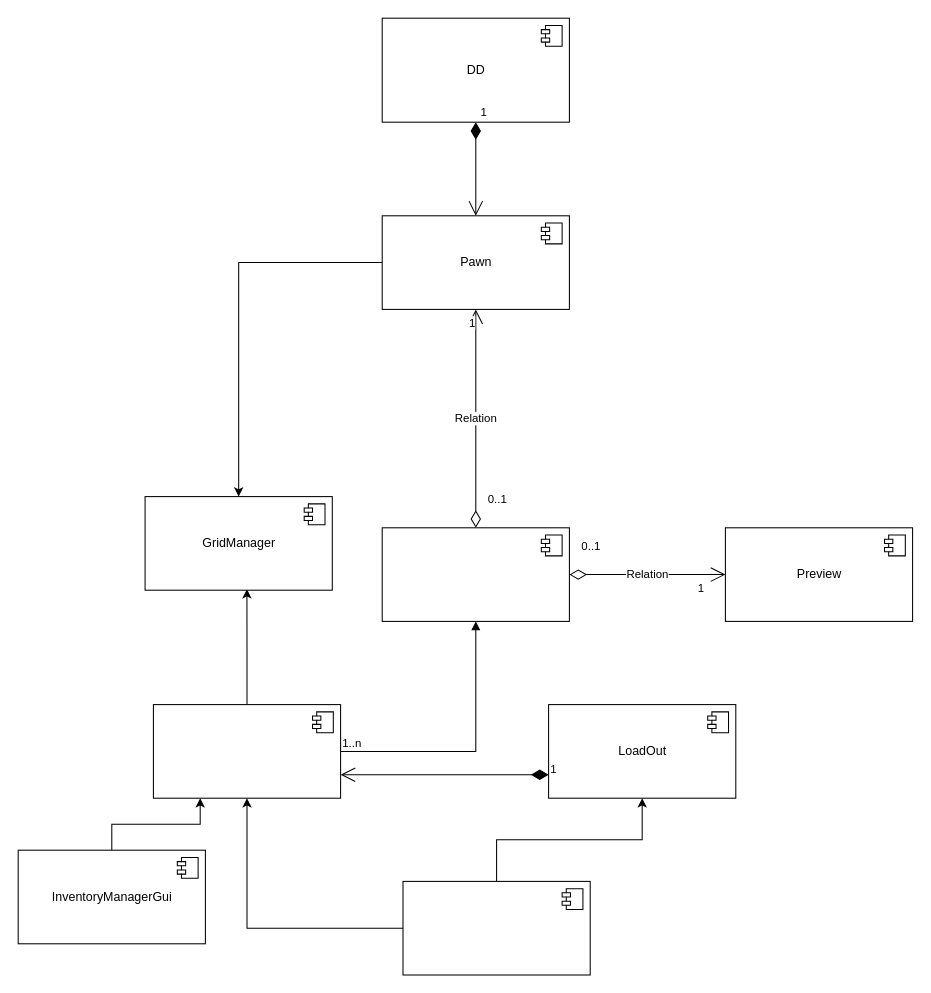
Some shapes in this 931 by 993 pixel diagram are drawn without their labels. The centre of each missing label's shape, as x and y in pixels:
"Blueprint" belongs at pixel 475 574.
"InventoryManager" belongs at pixel 246 751.
"LoadOutGui" belongs at pixel 496 927.
